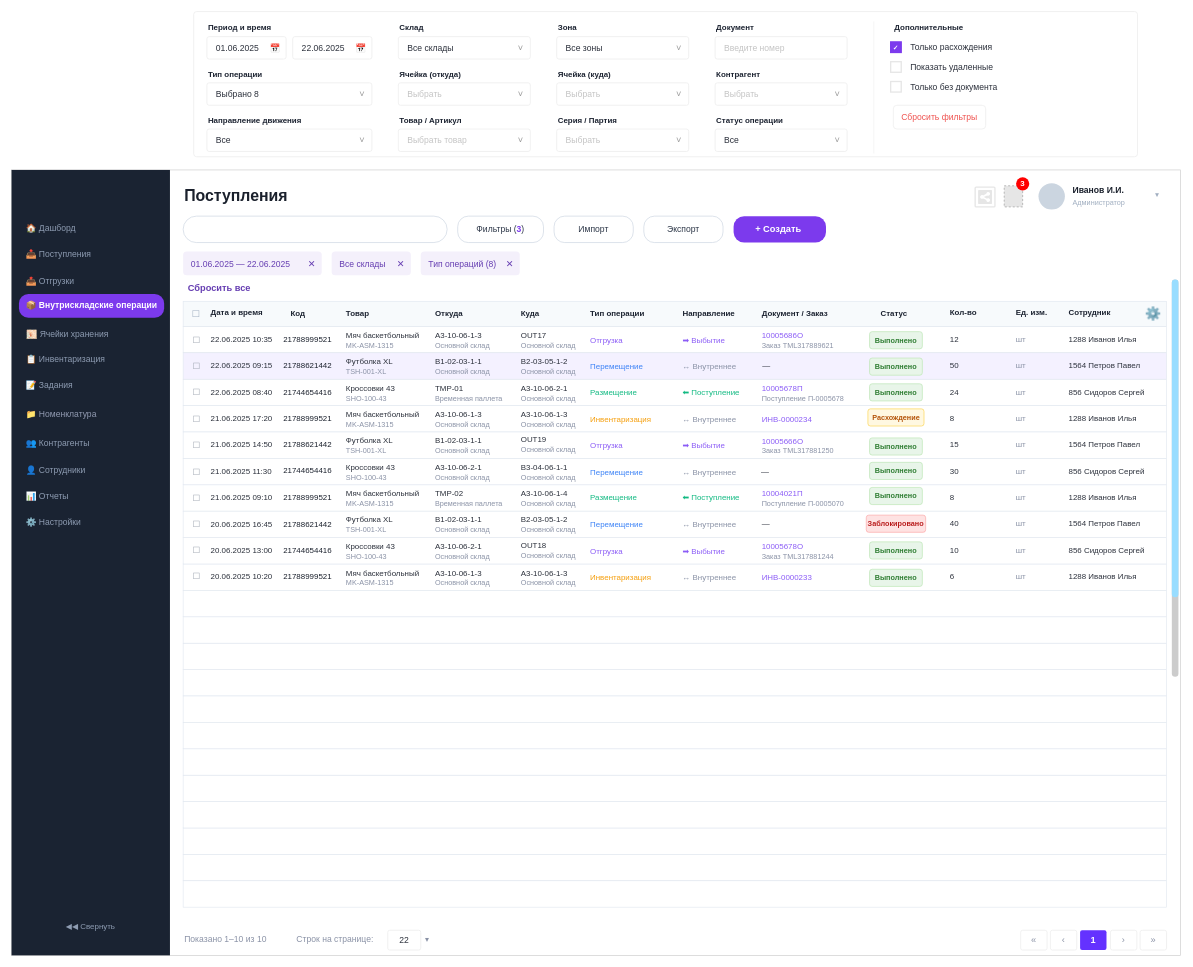
The diagram is 1193 pixels wide and 967 high, and some of its shapes have lost their labels. Grey dashed boxes stand in for pictures. Each missing label, with the box of its shape:
ИИ: (1038, 183, 1065, 209)
🔍 Поиск по № документа, накладной, поставщику, ТТН... .: (182, 215, 447, 243)
